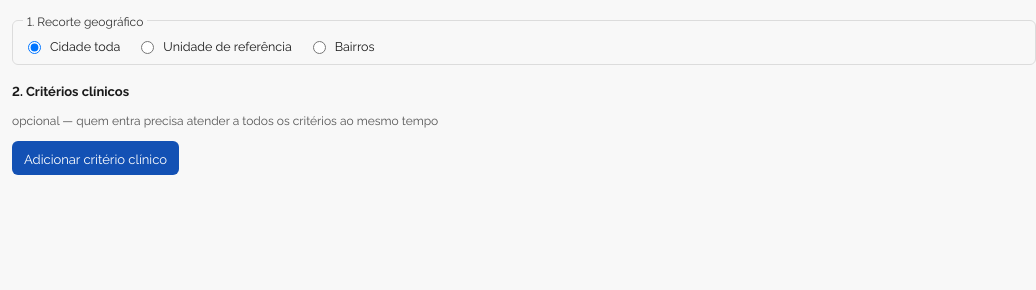
AudienceBuilder — recorte › unidade de referência: pede a unidade e grava o id
The image size is (1036, 290).
Click the radio button labelled "Unidade de referência" at (148, 48), box [141, 42, 154, 54]
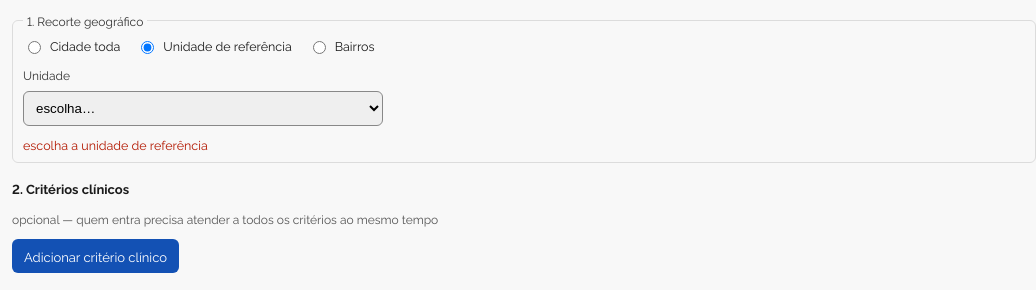
Check: the message reads "escolha a unidade de referência", box [23, 136, 208, 153]
Select "UBS Centro" in the dropdown labelled "Unidade" at (203, 108), box [23, 91, 383, 126]
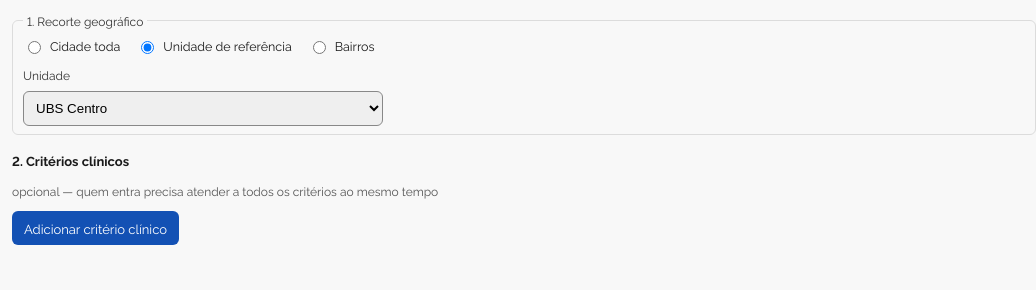
Check: the message "escolha a unidade de referência" is gone
